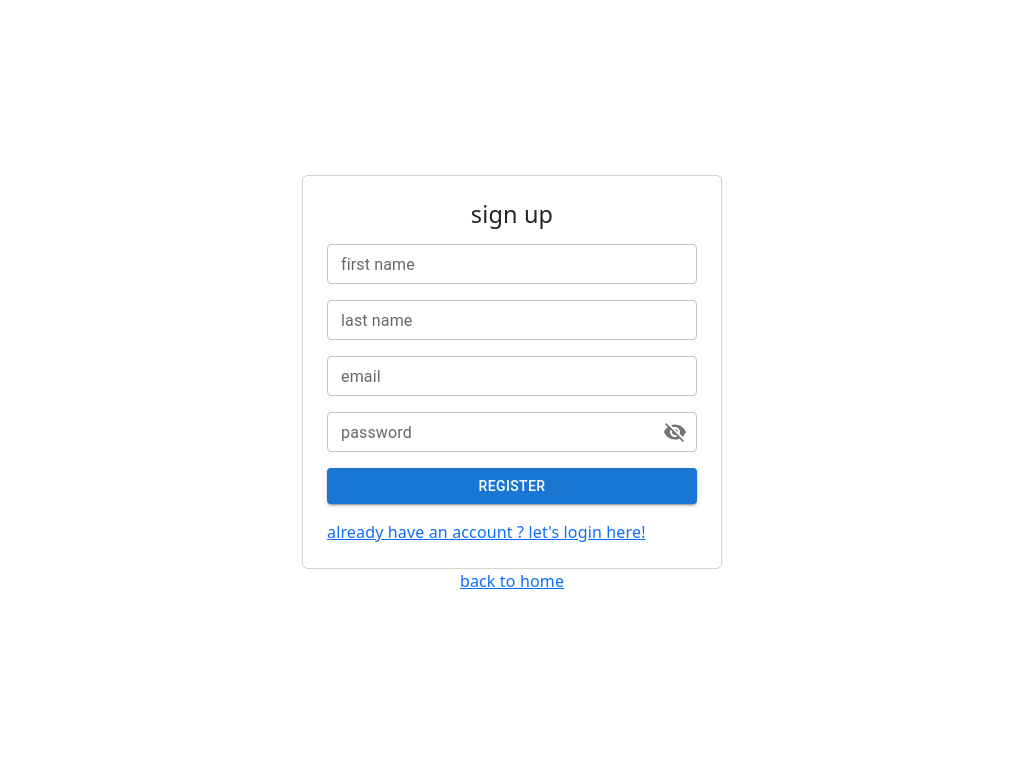
it: signup page › submits form and shows success modal
Type "john" into the field labelled "first name". click: (512, 264)
box: left=327, top=244, right=697, bottom=284
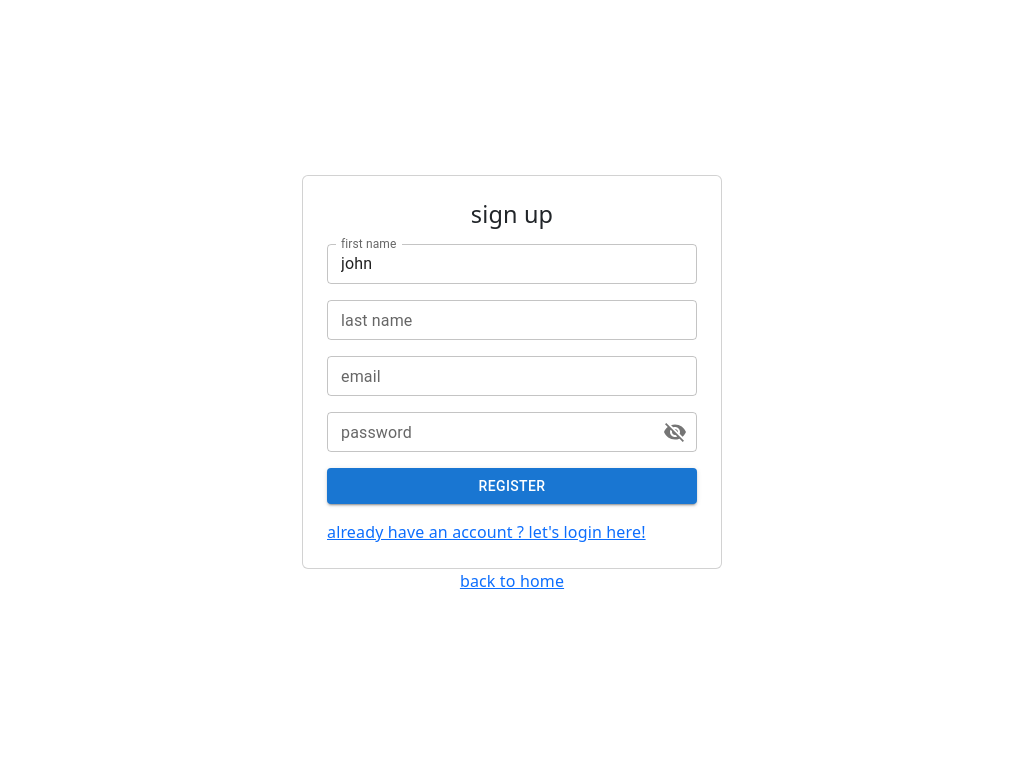
Type "doe" into the field labelled "last name". click: (512, 320)
box: left=327, top=300, right=697, bottom=340
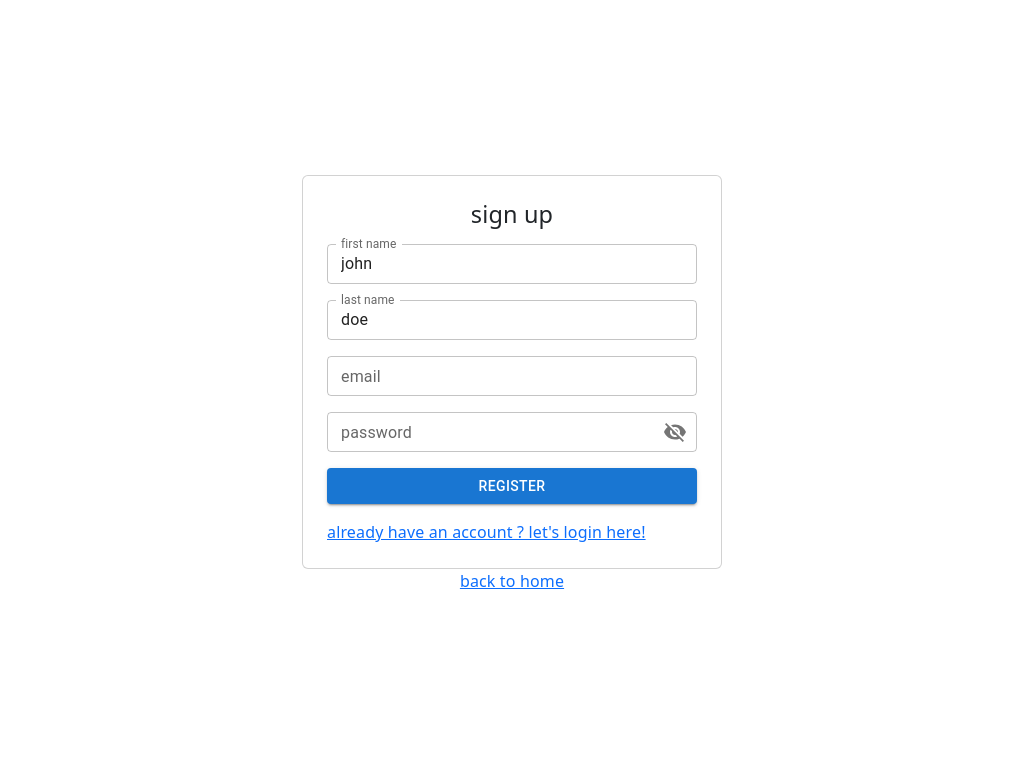
Type "john@example.com" into the field labelled "email". click: (512, 376)
box: left=327, top=356, right=697, bottom=396
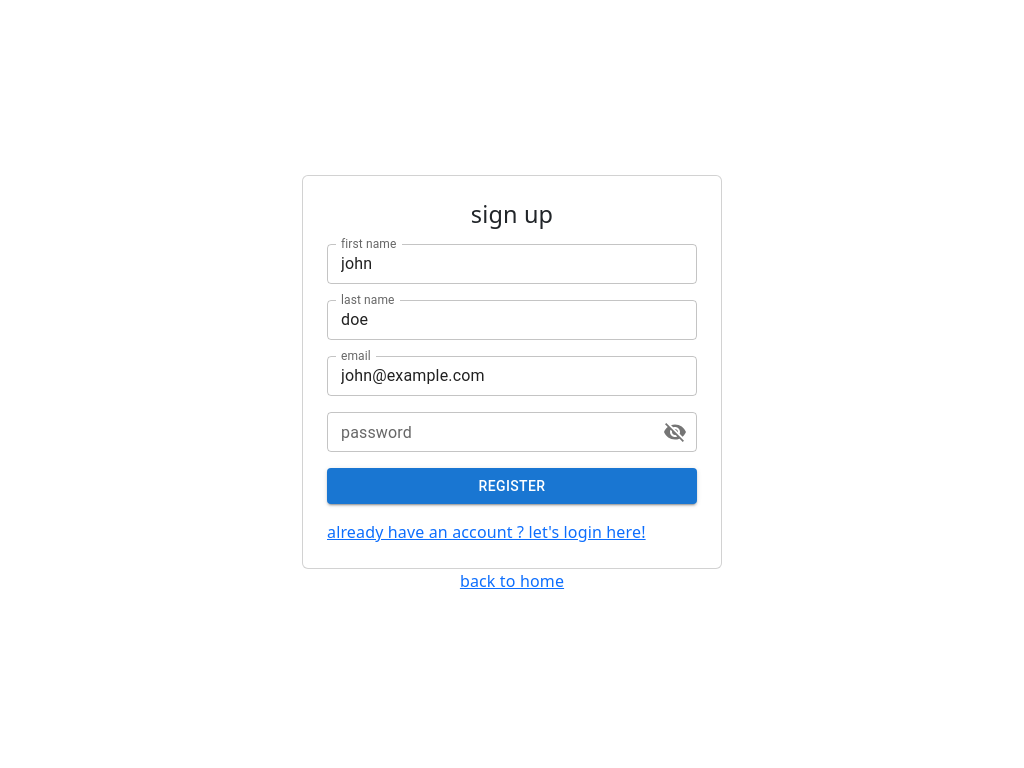
Type "1234567890" into the password field labelled "password". click: (487, 432)
box: left=327, top=412, right=647, bottom=452
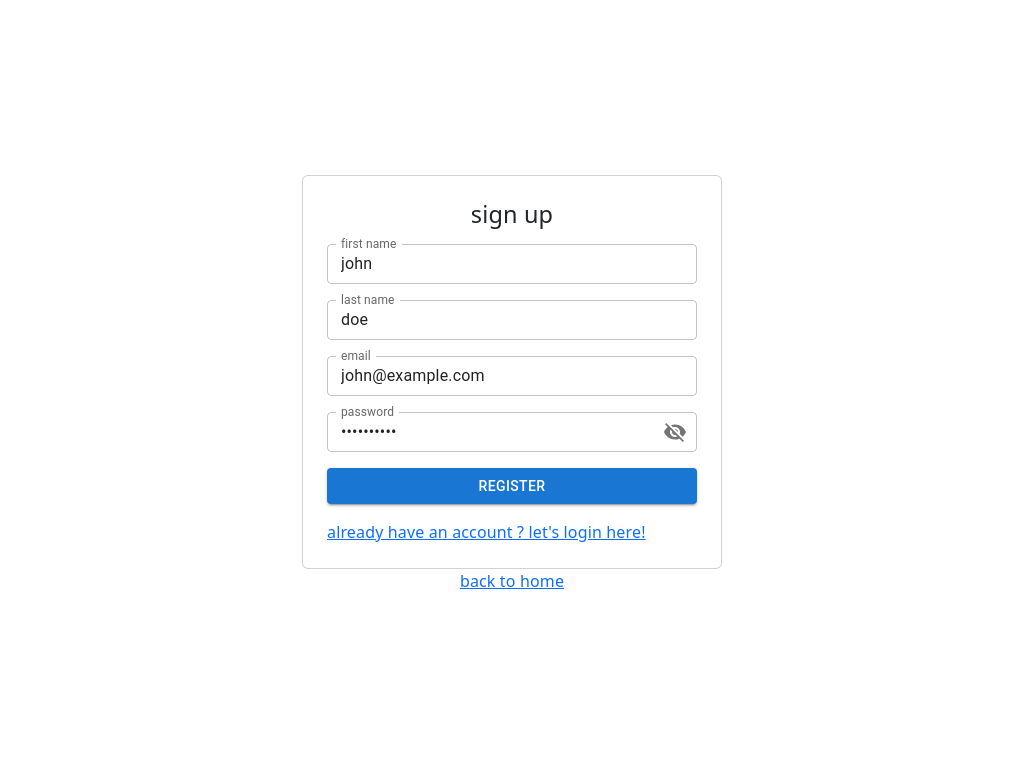
Click the button "register". click: (512, 486)
box: left=327, top=468, right=697, bottom=504
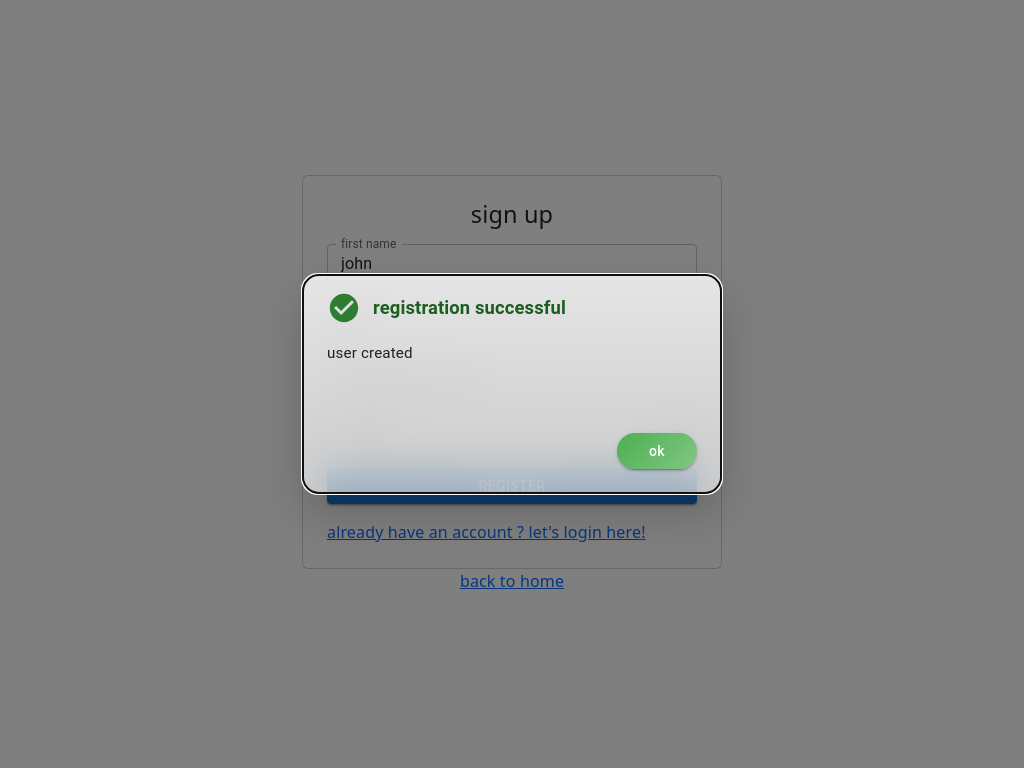
Expected: the heading "registration successful" is shown, left=327, top=291, right=566, bottom=325
Expected: the text "user created" is shown, left=327, top=344, right=413, bottom=362
